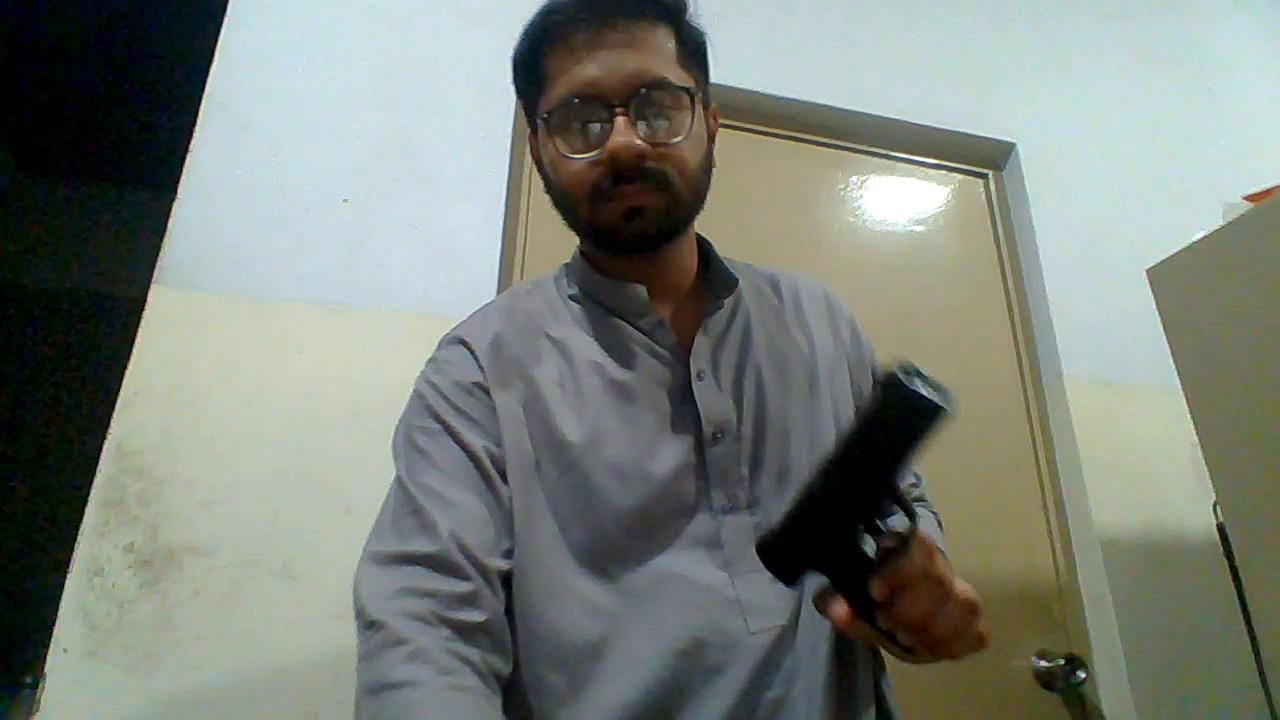criminal: (352, 0, 990, 720)
weapon: (754, 354, 960, 615)
